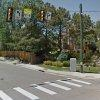Crosswalk: (0, 72, 89, 100)
